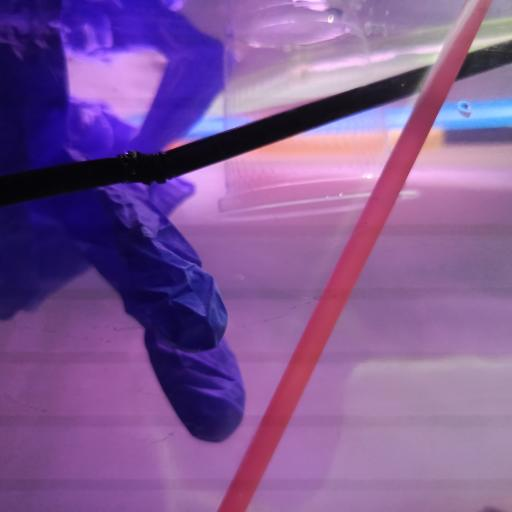glove: (1, 0, 248, 444)
plastic_cup: (218, 17, 422, 221)
plastic_straw: (220, 0, 491, 512), (0, 39, 512, 206), (180, 100, 512, 141)
